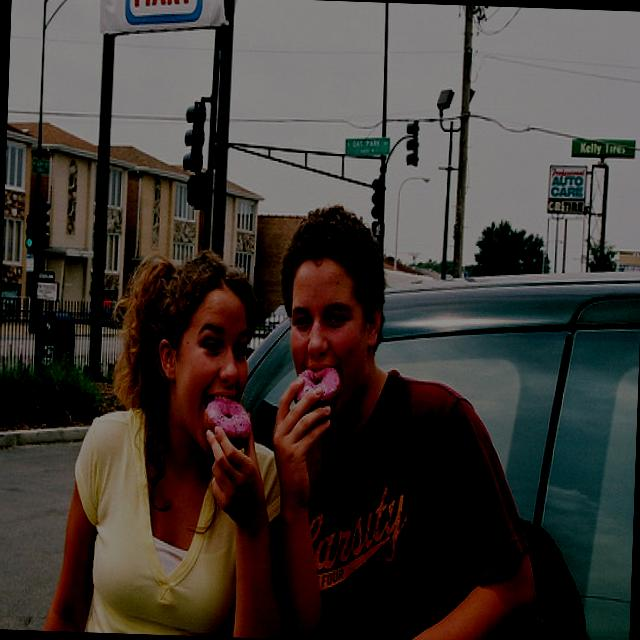Vehicle: (229, 258, 640, 640)
